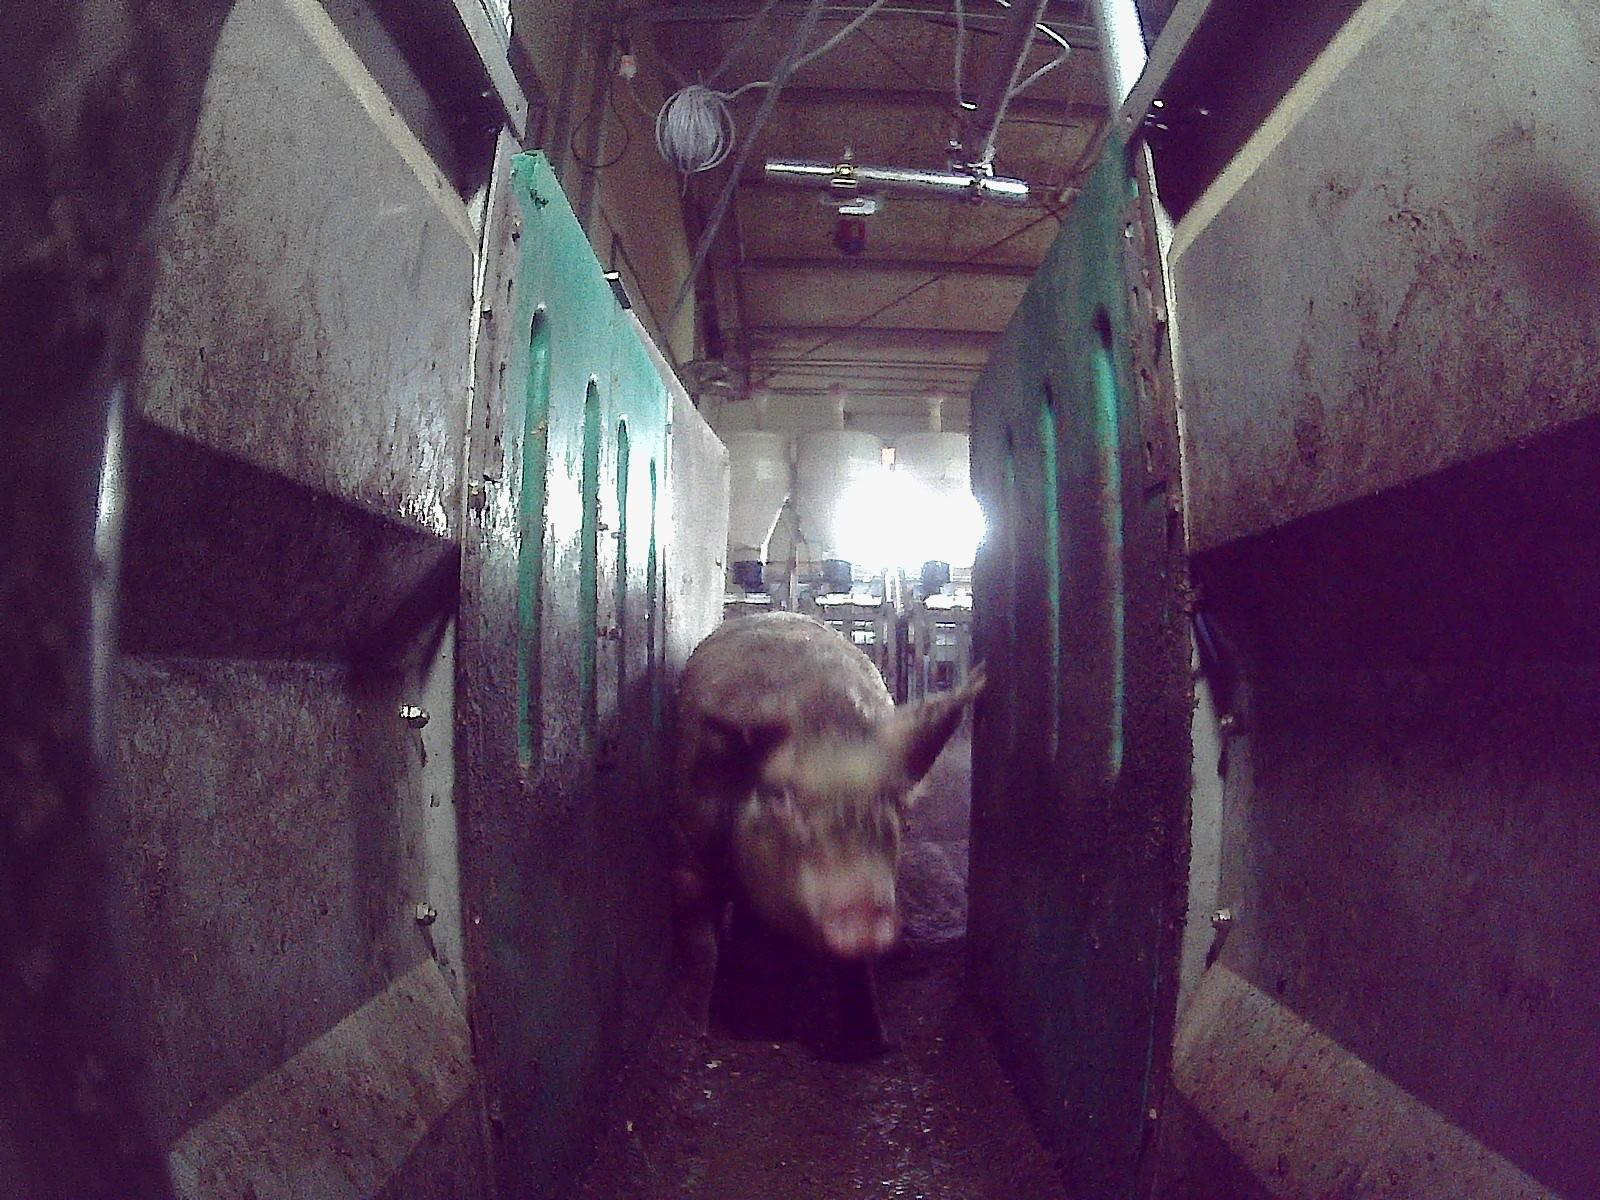Face: (721, 725, 906, 953)
